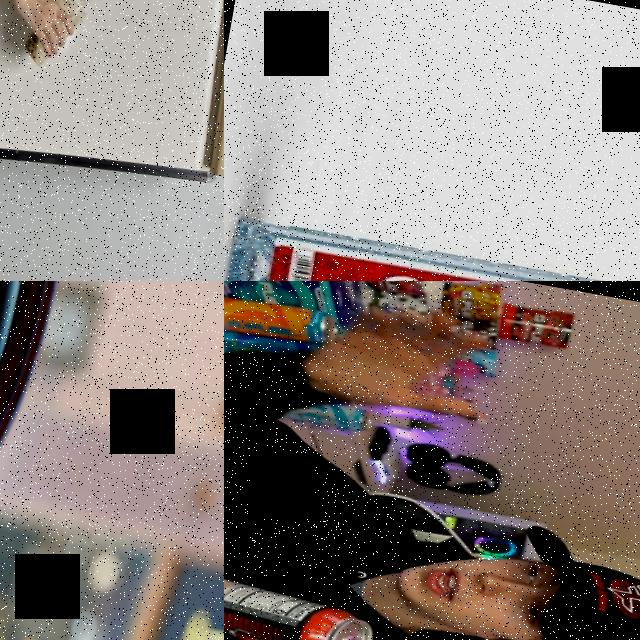bottle: (224, 199, 640, 281)
can: (224, 559, 386, 640)
cup: (19, 0, 90, 74)
